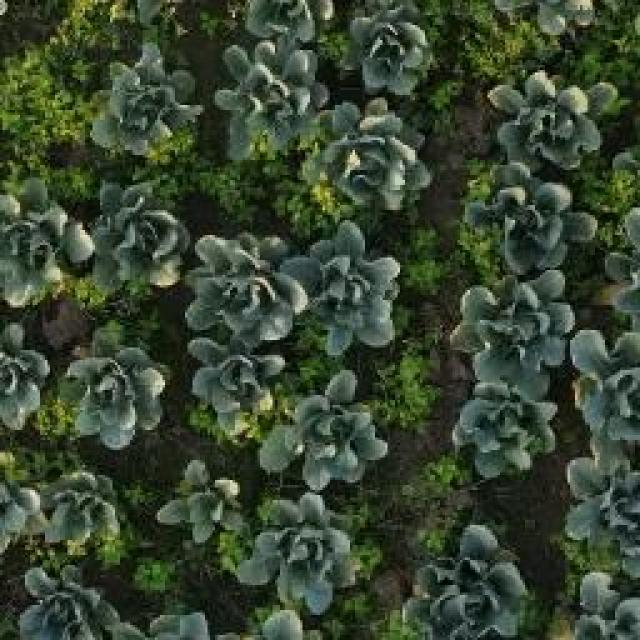cabbage: (282, 220, 401, 355), (266, 373, 394, 489), (236, 494, 366, 603), (468, 165, 581, 282), (95, 39, 206, 158), (62, 332, 172, 452), (481, 70, 618, 166), (322, 100, 437, 212), (188, 228, 300, 343), (461, 275, 573, 389), (0, 459, 134, 554), (409, 531, 524, 640), (212, 43, 326, 150), (86, 180, 190, 291), (453, 380, 561, 477), (336, 0, 438, 96), (0, 188, 82, 306), (189, 334, 277, 436), (566, 326, 640, 443), (21, 562, 116, 640), (567, 440, 640, 537), (164, 458, 242, 540), (0, 325, 55, 437)
